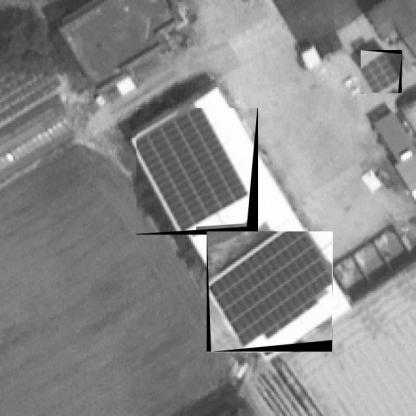solar-pv-panel: (209, 231, 332, 350), (136, 108, 252, 232), (361, 52, 400, 93)
